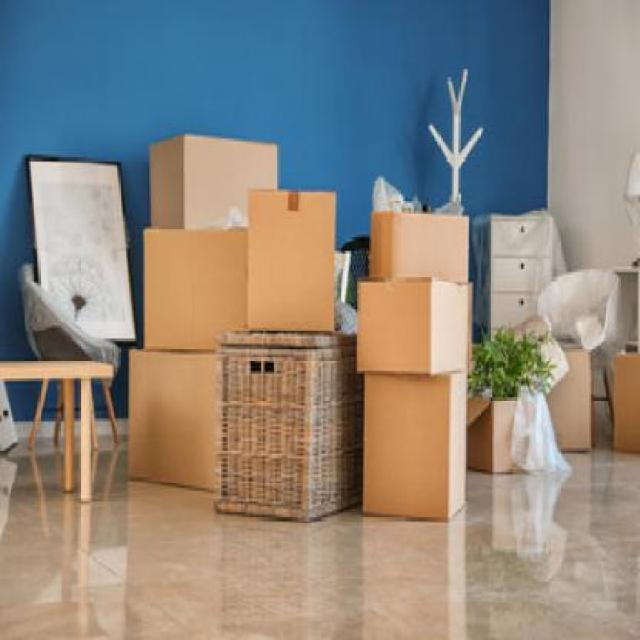box: (124, 345, 249, 493), (140, 222, 263, 359), (359, 371, 468, 523), (152, 134, 280, 237), (251, 190, 333, 337), (361, 271, 461, 377), (371, 204, 478, 289)
